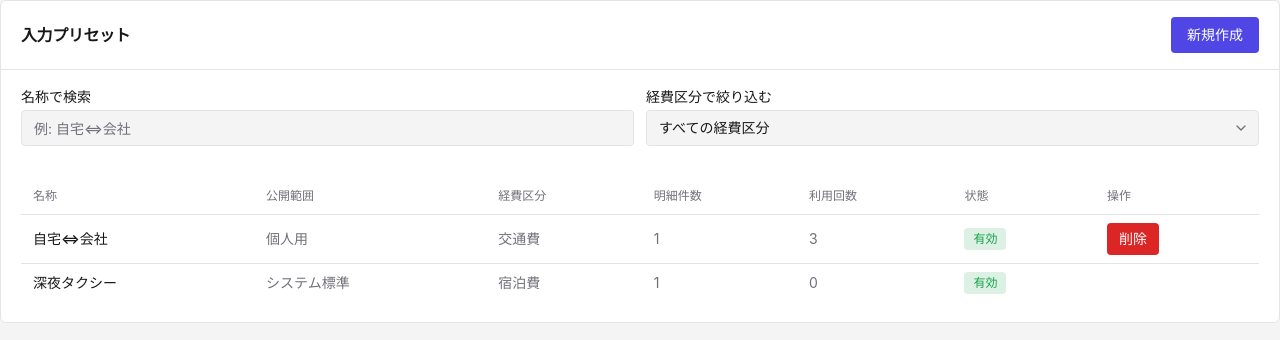
Test case: ExpenseEntryPresetListPage › filters by name via the search box
Expected: the link "自宅⇔会社" is shown, [33,230,108,246]
Type "深夜" into the field labelled "名称で検索" at (328, 128), box [21,110,634,146]
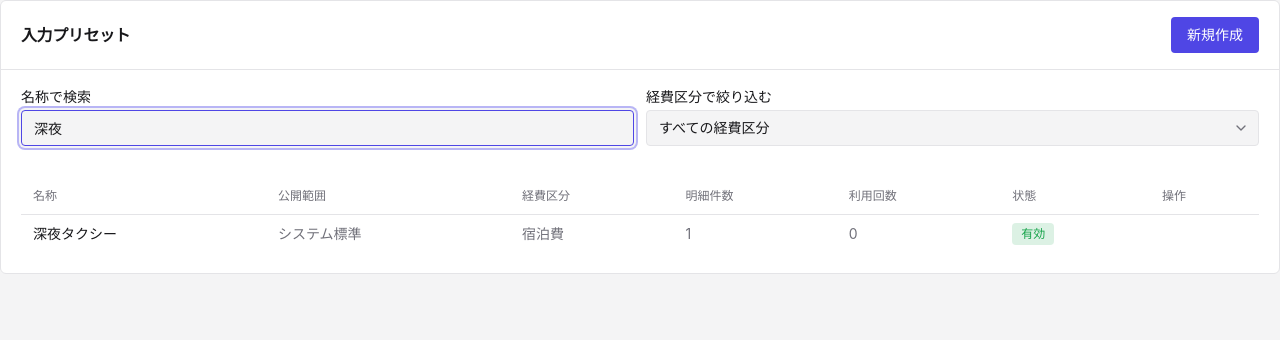
Expected: the text "深夜タクシー" is shown, [33,224,117,242]
Expected: the link "自宅⇔会社" is gone
